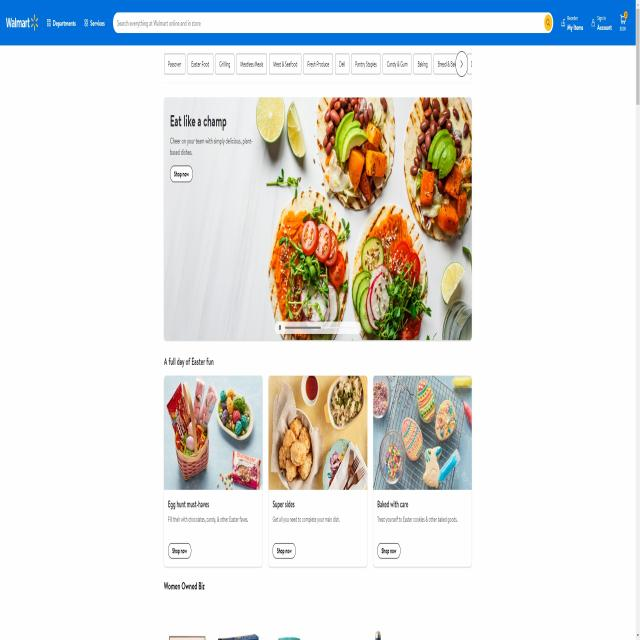menu-bar: (558, 8, 632, 36)
search: (111, 10, 554, 37)
tab-bar: (162, 50, 476, 78), (5, 8, 108, 37)
